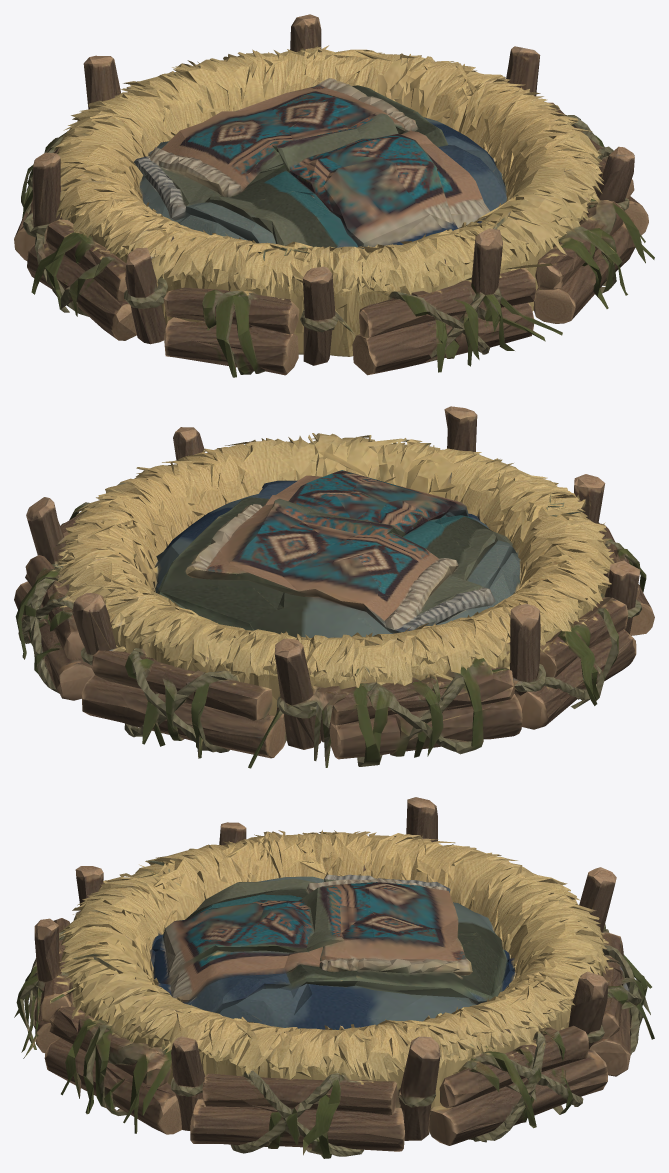
File: camp_bed.glb
3 views of the same model, one above another, from view 1: azimuth 30°, elevation 25°; view 2: azimuth 150°, elevation 25°; view 3: azimuth 270°, elevation 25° (orthographic).
Parts seen in each view (by area): view 1: Mesh_0; view 2: Mesh_0; view 3: Mesh_0.
Boxes of the visible parts, box(x1,y1,x2,y2) form: Mesh_0: box(14, 14, 654, 377); Mesh_0: box(14, 406, 654, 768); Mesh_0: box(14, 797, 654, 1158).
Size of the model in its own units: 1.9 by 0.4084 by 1.89.
1 material, 1 textured.
